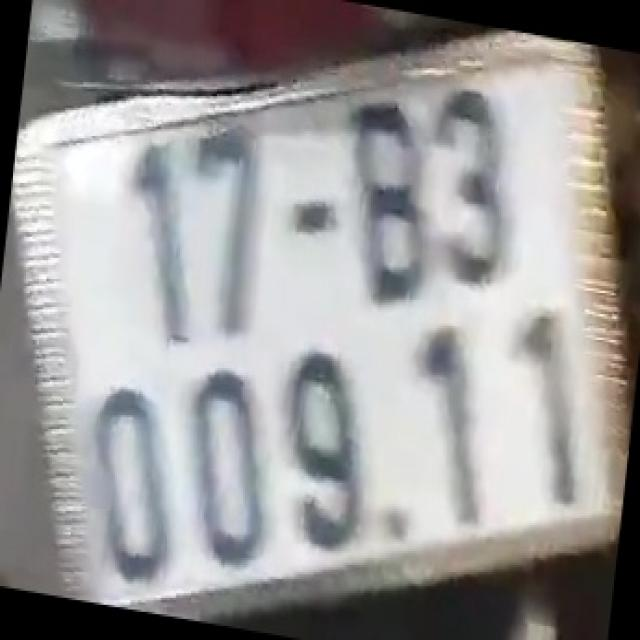0: (91, 378, 172, 586), (189, 361, 265, 570)
1: (412, 319, 490, 530), (120, 136, 196, 349), (510, 307, 586, 511)
3: (430, 84, 516, 291)
7: (193, 122, 265, 337)
9: (282, 345, 367, 553)
B: (348, 96, 428, 310)
